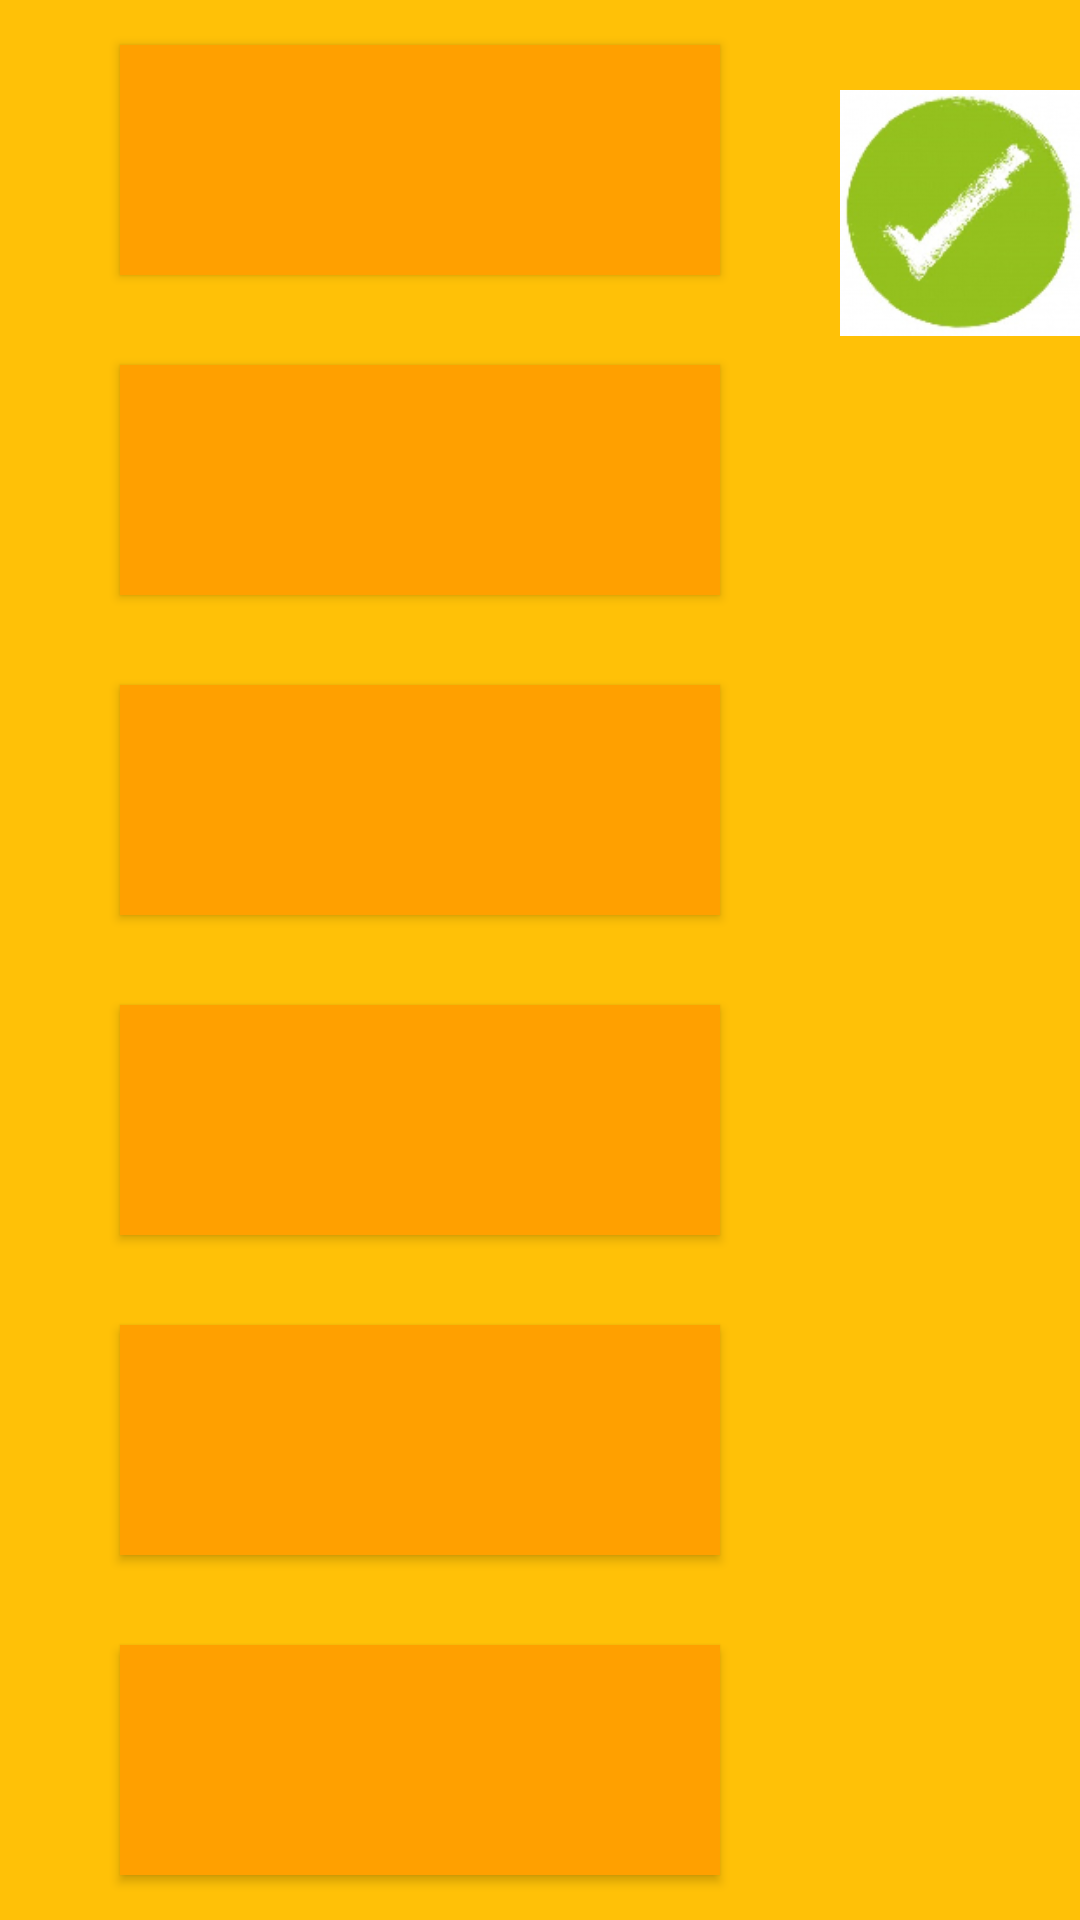

Icon bounding boxes for this 1080*1920 phone screenshot, format (x1, y1, x2, y2):
check: (840, 90, 1080, 336)
